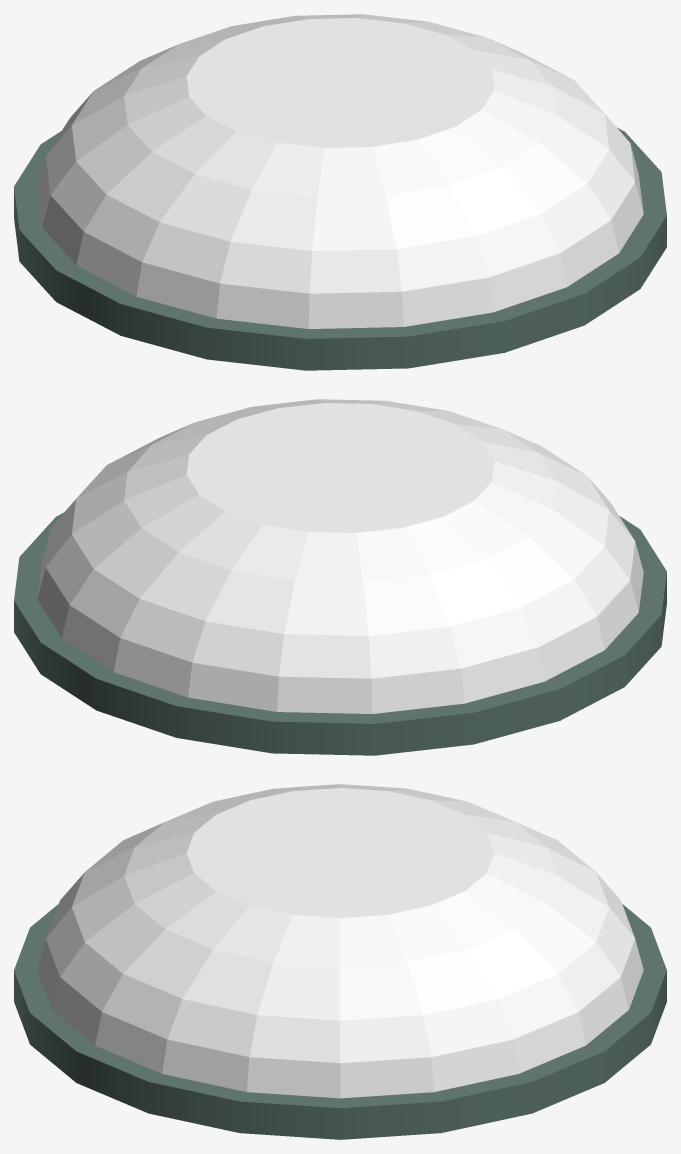
File: light6.FBX
3 renders of one model, top to bottom at view 1: azimuth 30°, elevation 25°; view 2: azimuth 150°, elevation 25°; view 3: azimuth 270°, elevation 25°, orthographic.
Parts seen in each view (by area): view 1: light6; view 2: light6; view 3: light6.
Boxes of the visible parts, x1,y1,x2,y2 form: light6: (14,14,666,370); light6: (14,399,666,755); light6: (14,784,666,1139).
Bounding box in the file's own units: 3.75 × 0.9435 × 3.75.
